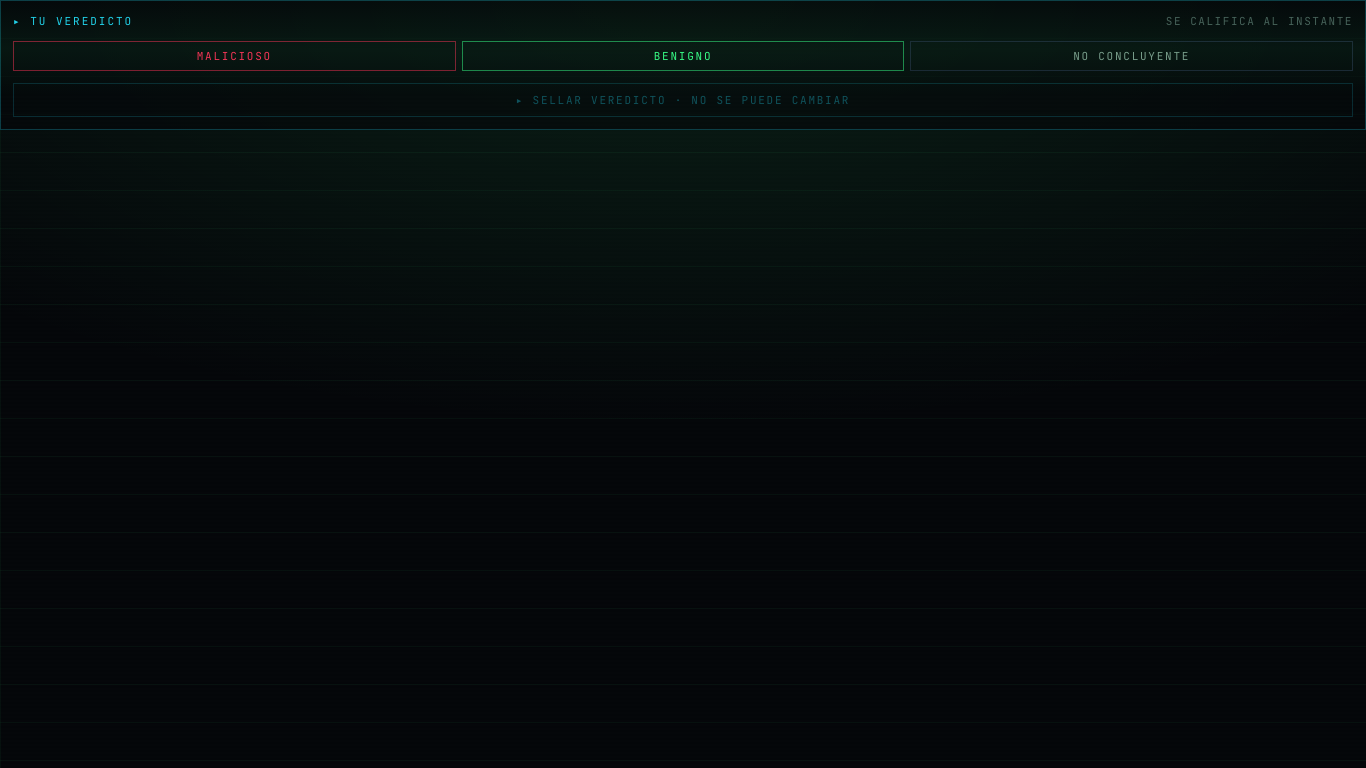
VerdictPanel › al 50% explica que cubrirse no paga
Click the radio button labelled "malicioso" at (234, 56), box left=13, top=41, right=456, bottom=71
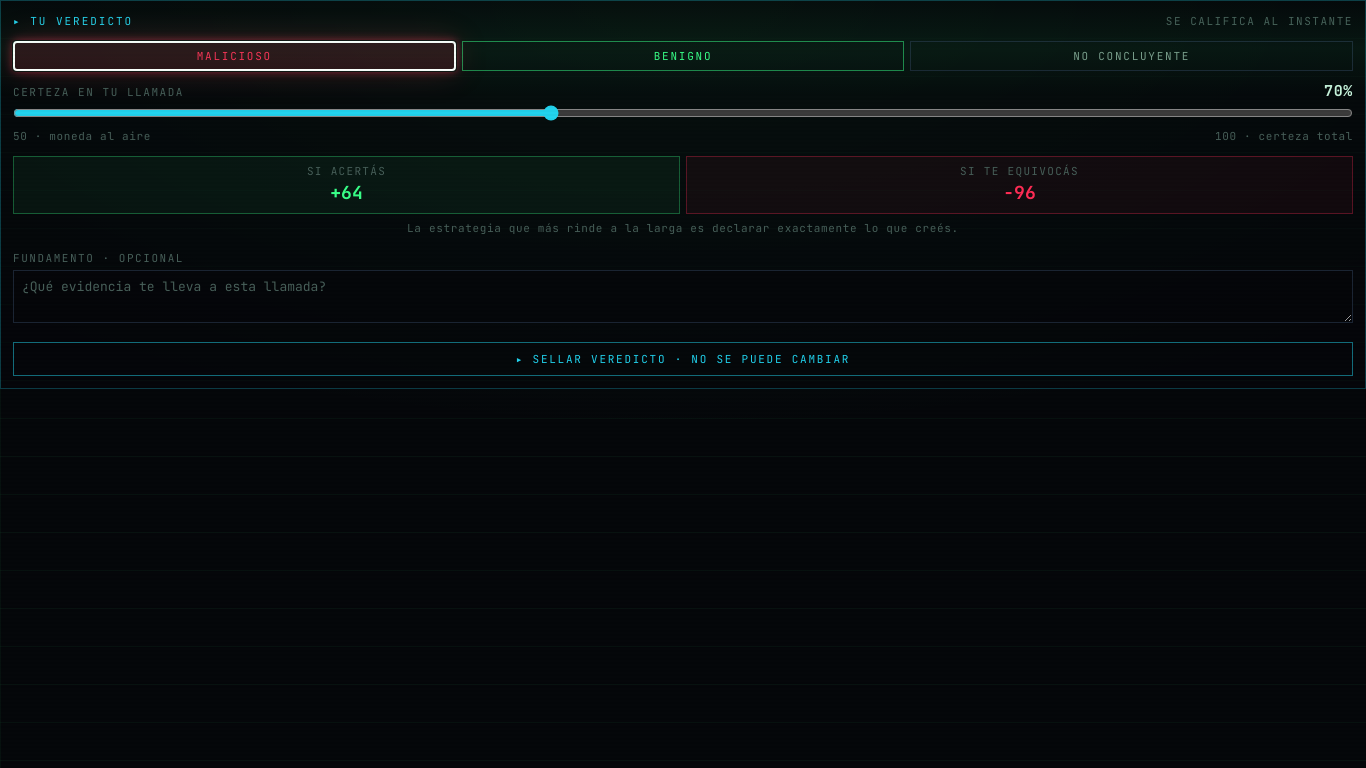
Set the slider to "50" at (21, 113), box left=13, top=105, right=1353, bottom=121
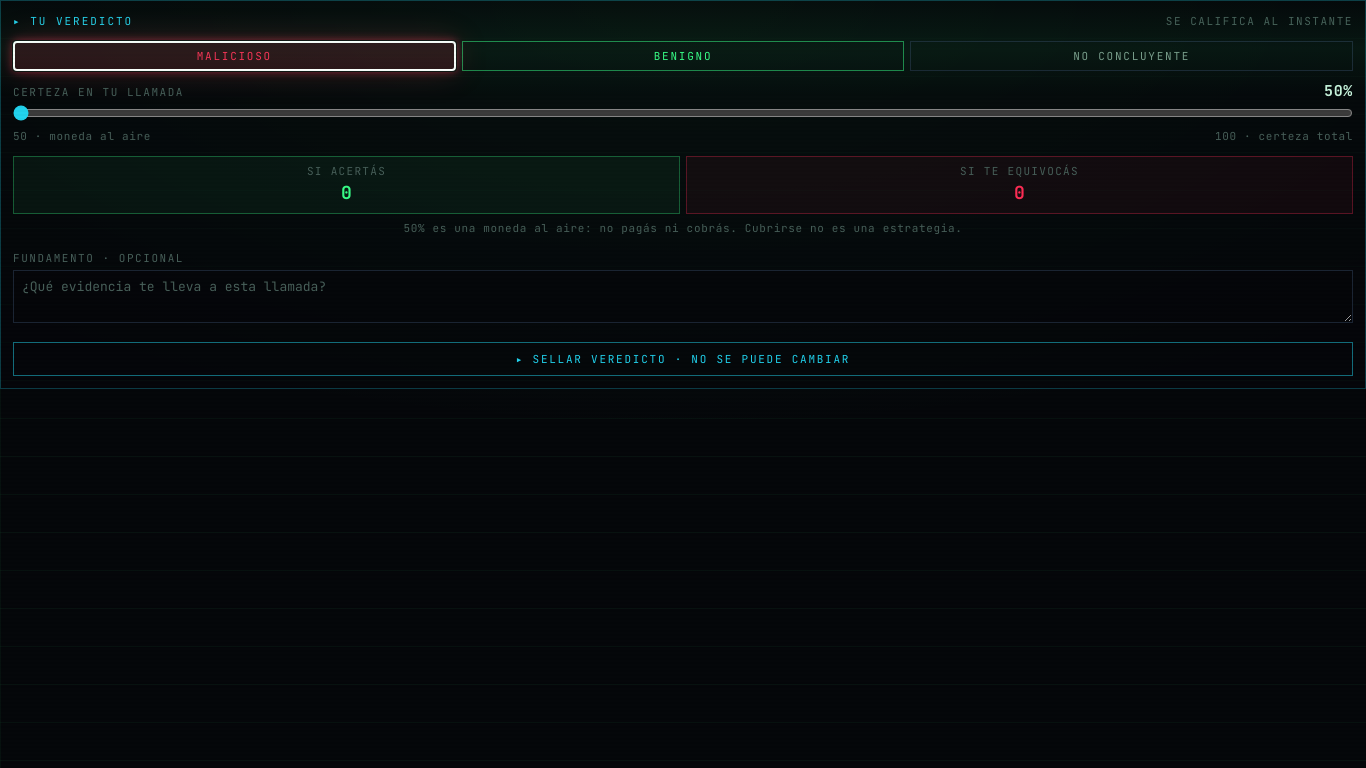
Expected: the element with test id "vista-previa-pago" shows "moneda al aire", left=404, top=221, right=962, bottom=235
